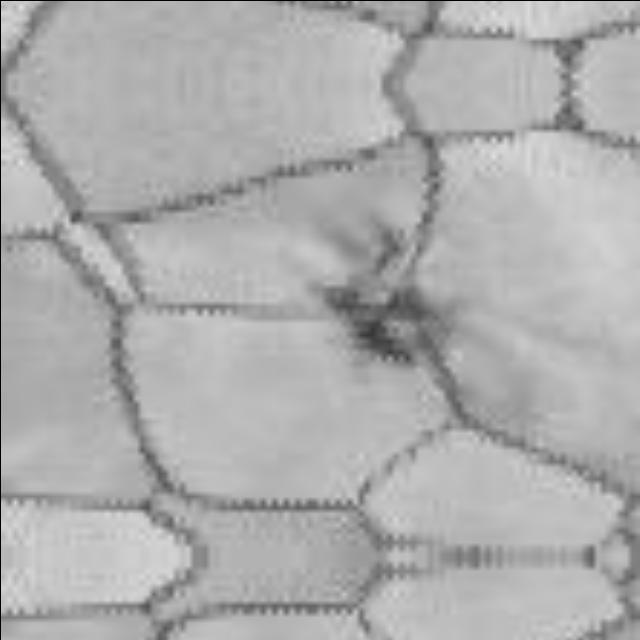good_void: (322, 223, 449, 374)
